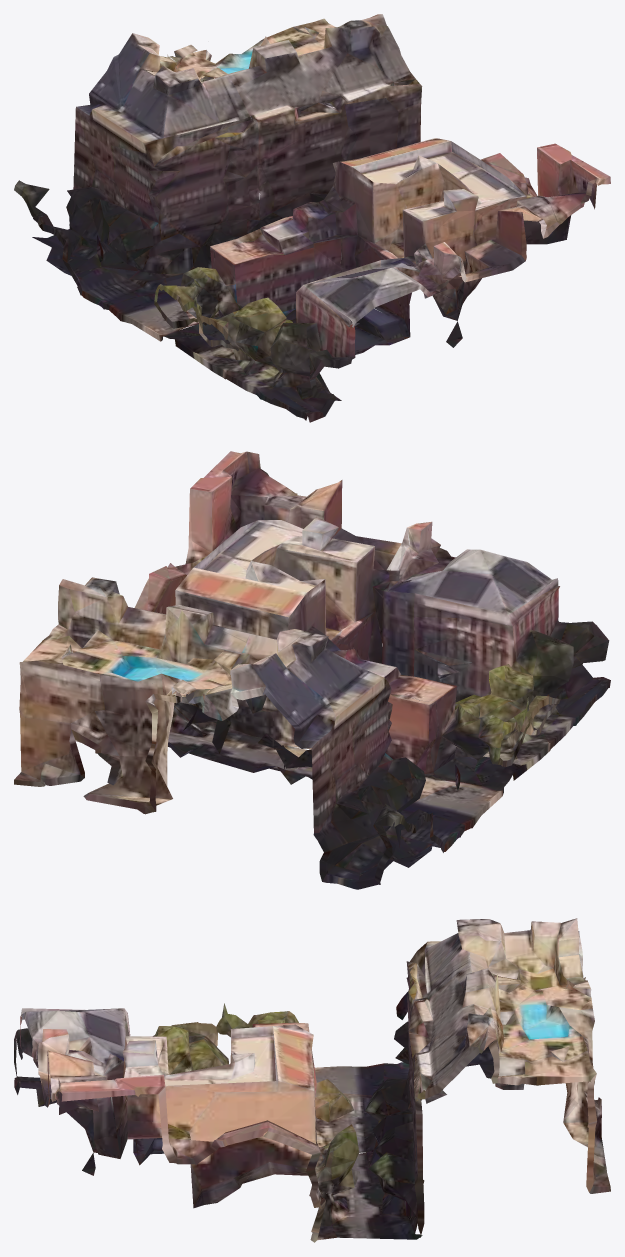
3 renders of one model, top to bottom at view 1: azimuth 30°, elevation 25°; view 2: azimuth 150°, elevation 25°; view 3: azimuth 270°, elevation 25°, orthographic. The views are drawn at different scales.
Visible parts, largest first — view 1: Mesh_0; view 2: Mesh_0; view 3: Mesh_0.
Boxes of the visible parts, bbox=[...] form: Mesh_0: bbox=[14, 14, 610, 422]; Mesh_0: bbox=[14, 451, 610, 889]; Mesh_0: bbox=[14, 918, 610, 1242].
Size of the model in its own units: 66.6 by 32.86 by 82.56.
1 material, 1 textured.
